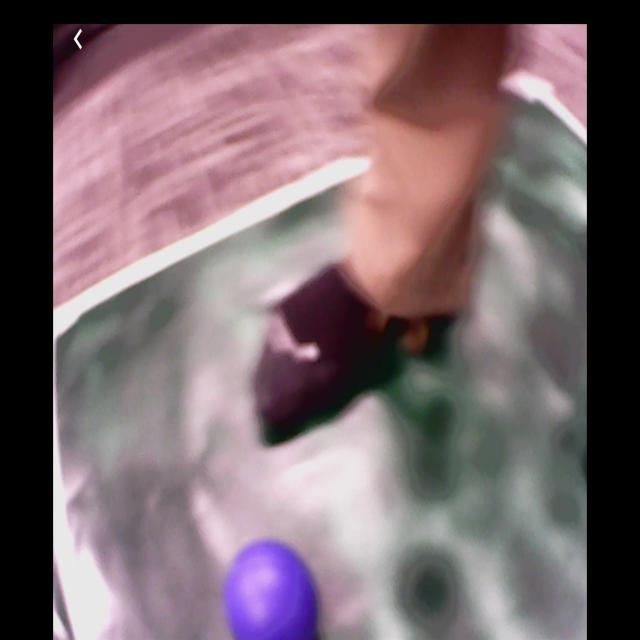ball: (227, 542, 322, 640)
